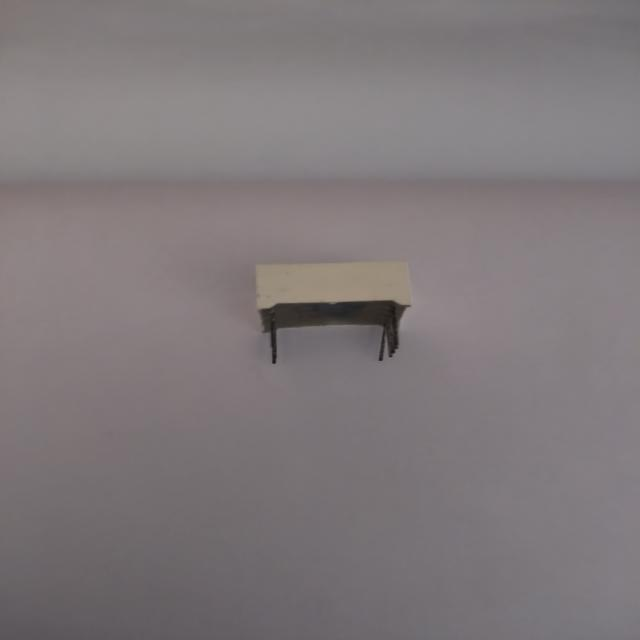sevensegment: (248, 254, 424, 367)
